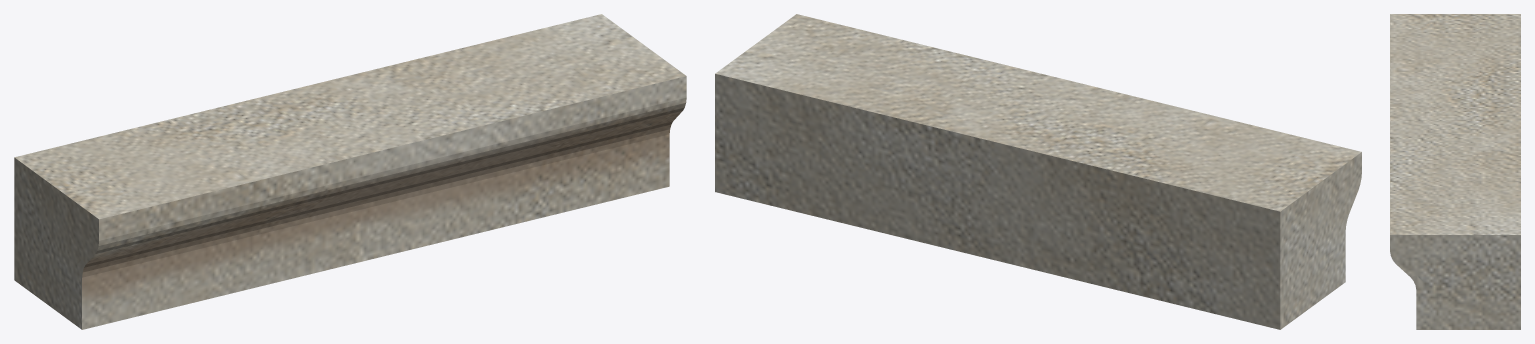
File: TrimUnit_2_75m.fbx
3 views of the same model, side by side, from view 1: azimuth 30°, elevation 25°; view 2: azimuth 150°, elevation 25°; view 3: azimuth 270°, elevation 25° (orthographic). The views are drawn at different scales.
Visible parts, largest first — view 1: Wall_2m75; view 2: Wall_2m75; view 3: Wall_2m75.
Boxes of the visible parts, x1=… form: Wall_2m75: x1=14, y1=14, x2=686, y2=329; Wall_2m75: x1=715, y1=14, x2=1361, y2=329; Wall_2m75: x1=1390, y1=14, x2=1520, y2=329.
Bounding box in the file's own units: 200 × 40 × 50.
1 material, 1 textured.
